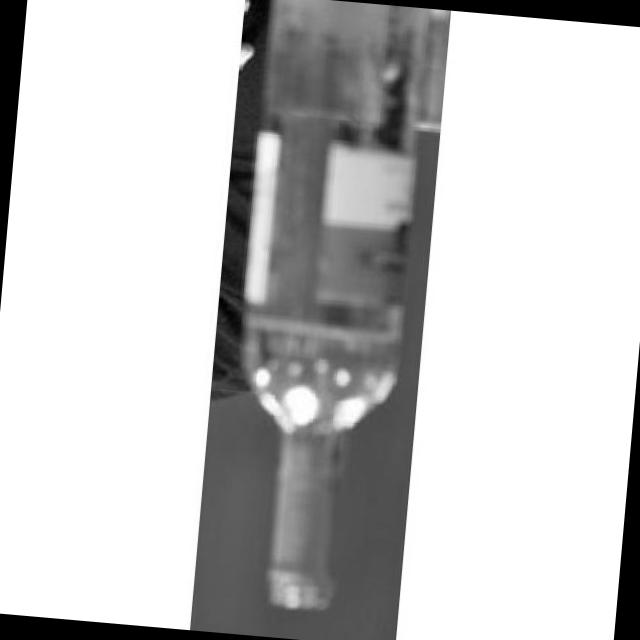BotolKaca: (200, 0, 443, 621)
